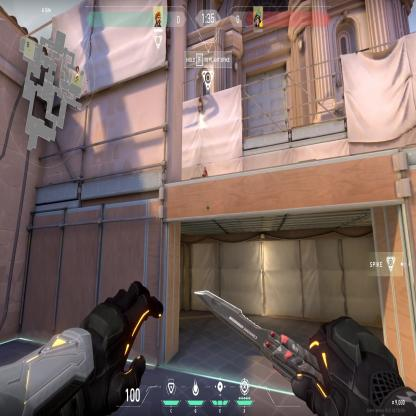enemy: (201, 165, 208, 177)
